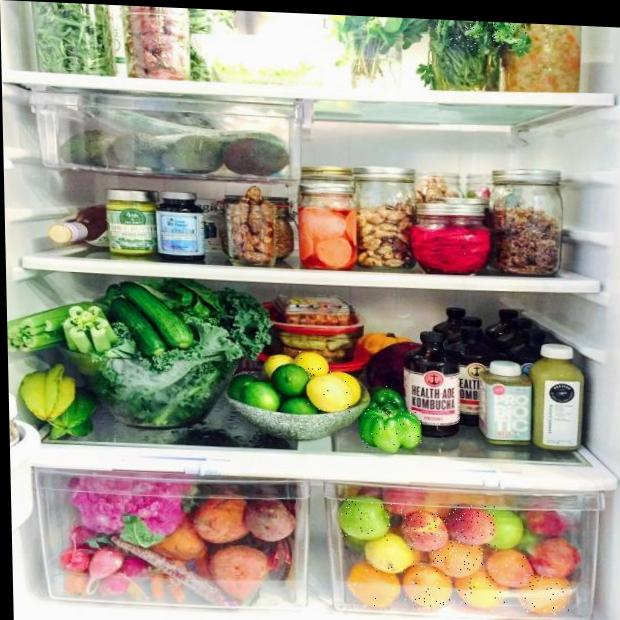apple: (340, 497, 393, 541)
green bell pepper: (362, 408, 422, 451), (368, 385, 404, 412)
lemon: (306, 374, 352, 412), (294, 351, 331, 376)
orange: (346, 563, 401, 607), (403, 566, 456, 608), (518, 574, 571, 614), (455, 572, 508, 607), (432, 544, 484, 578), (488, 549, 532, 585)
parsley: (434, 19, 528, 51)
peach: (449, 504, 496, 547), (401, 509, 449, 551)
